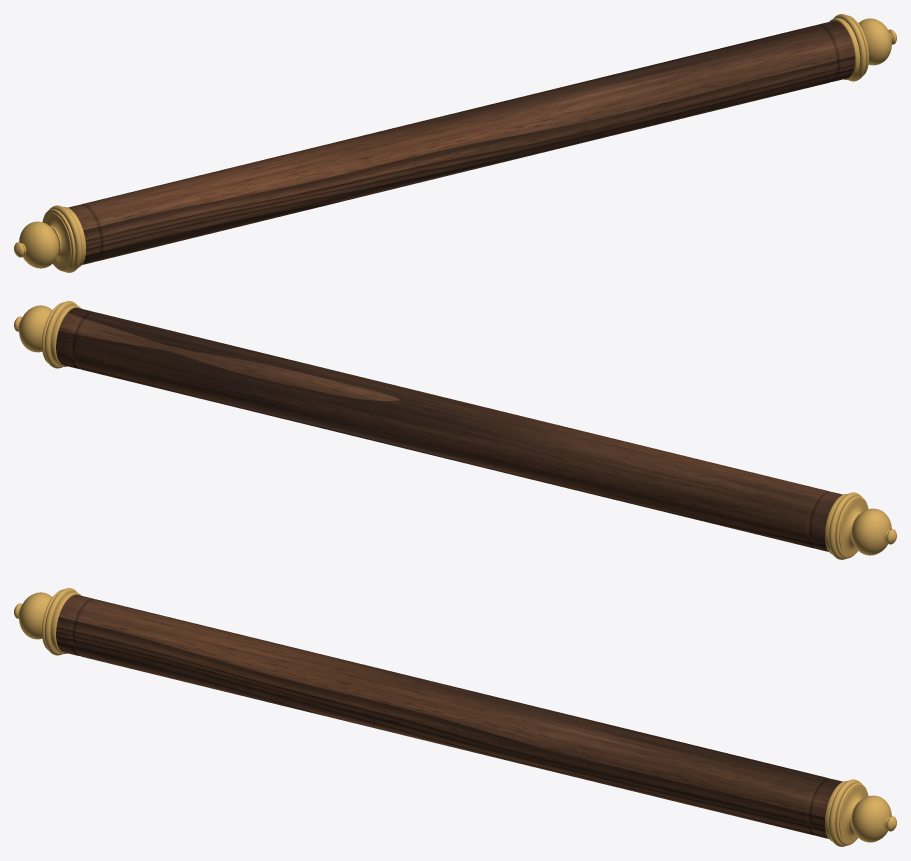
Rendered from varilla.glb.
3 renders of one model, top to bottom at view 1: azimuth 30°, elevation 25°; view 2: azimuth 150°, elevation 25°; view 3: azimuth 330°, elevation 25°, orthographic.
Visible parts, largest first — view 1: Varilla_Madera, Varilla_Oro; view 2: Varilla_Madera, Varilla_Oro; view 3: Varilla_Madera, Varilla_Oro.
Boxes of the visible parts, bbox=[...] form: Varilla_Madera: bbox=[68, 20, 854, 264]; Varilla_Oro: bbox=[14, 14, 896, 272]; Varilla_Madera: bbox=[56, 307, 842, 551]; Varilla_Oro: bbox=[14, 301, 896, 559]; Varilla_Madera: bbox=[56, 594, 842, 838]; Varilla_Oro: bbox=[14, 588, 896, 846].
Size of the model in its own units: 0.378 by 0.0256 by 0.0256.
2 materials, 1 textured.
